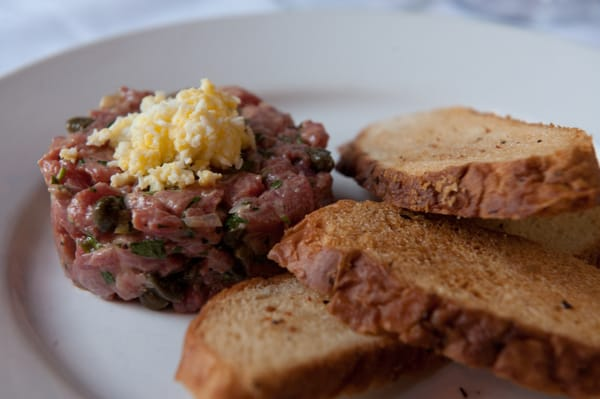soup: (36, 79, 342, 315), (269, 200, 599, 394), (336, 105, 600, 270)
